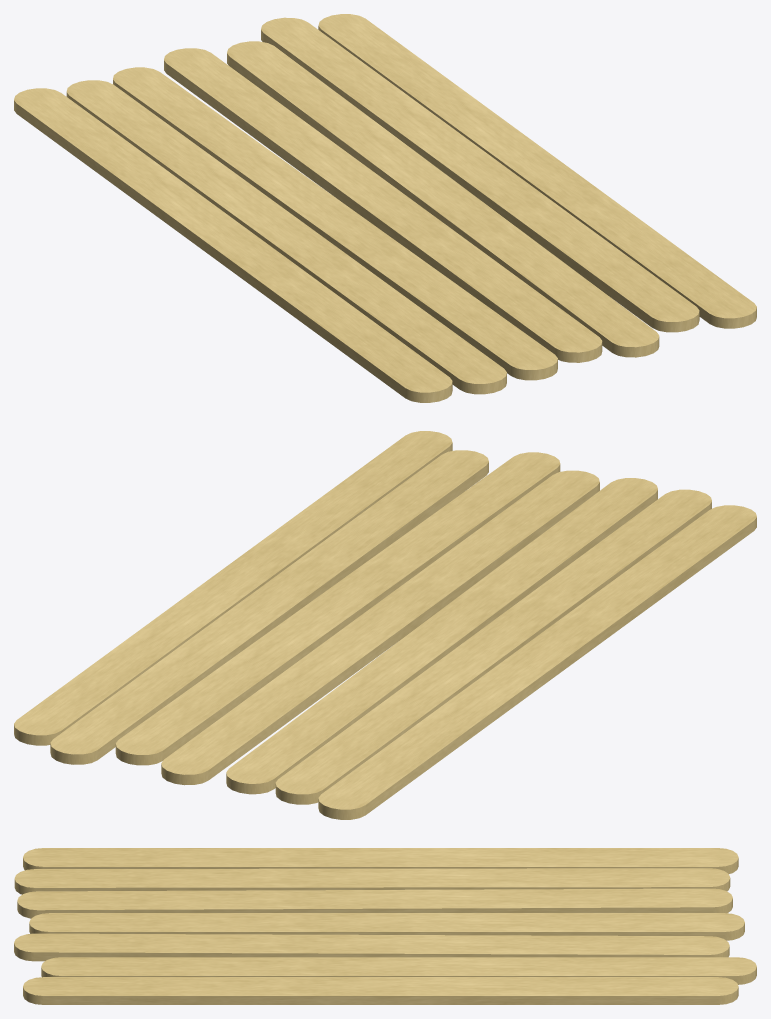
The model's file is SM_Popsicles.fbx.
3 renders of one model, top to bottom at view 1: azimuth 30°, elevation 25°; view 2: azimuth 150°, elevation 25°; view 3: azimuth 270°, elevation 25°, orthographic. The views are drawn at different scales.
Visible parts, largest first — view 1: SM_Popsicles; view 2: SM_Popsicles; view 3: SM_Popsicles.
Boxes of the visible parts, x1,y1,x2,y2 form: SM_Popsicles: [14, 14, 756, 402]; SM_Popsicles: [14, 431, 756, 819]; SM_Popsicles: [14, 848, 756, 1004].
Size of what is drawn, in the model's own units: 99.08 by 2.8 by 210.
Materials: 1 (1 with a texture image).
